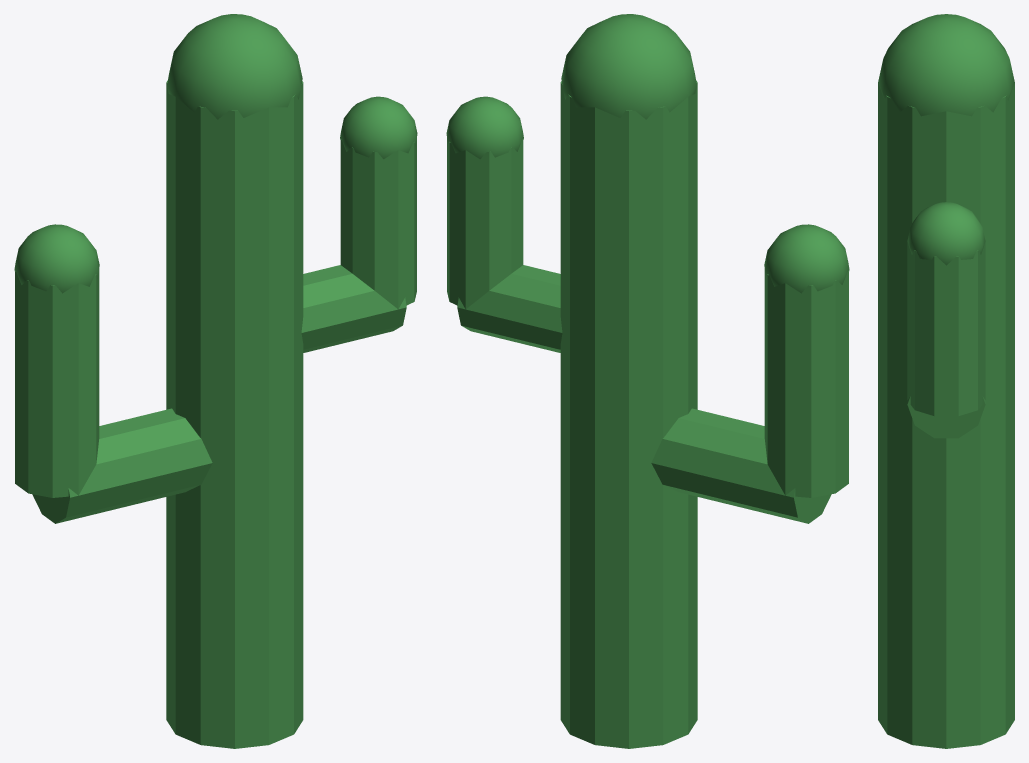
File: cactus.glb
3 views of the same model, side by side, from view 1: azimuth 30°, elevation 25°; view 2: azimuth 150°, elevation 25°; view 3: azimuth 270°, elevation 25° (orthographic).
Visible parts, largest first — view 1: stem, armL2, armR2, top, armL1, armR1, tL, tR; view 2: stem, armL2, armR2, top, armL1, armR1, tL, tR; view 3: stem, armR2, top, tR, armR1.
Boxes of the visible parts, <box> form: stem: <box>166,80,303,748</box>; armL2: <box>15,269,99,497</box>; armR2: <box>340,138,416,309</box>; top: <box>167,14,302,119</box>; armL1: <box>32,408,212,523</box>; armR1: <box>301,265,406,352</box>; tL: <box>14,224,99,293</box>; tR: <box>340,96,417,159</box>; stem: <box>560,80,697,748</box>; armL2: <box>764,269,848,497</box>; armR2: <box>447,138,523,309</box>; top: <box>561,14,696,119</box>; armL1: <box>651,408,831,523</box>; armR1: <box>457,265,562,352</box>; tL: <box>764,224,849,293</box>; tR: <box>446,96,523,159</box>; stem: <box>878,83,1014,748</box>; armR2: <box>907,241,985,416</box>; top: <box>878,14,1014,116</box>; tR: <box>907,202,985,265</box>; armR1: <box>907,396,985,438</box>.
Size of the model in its own units: 2.32 by 3.95 by 0.7.
